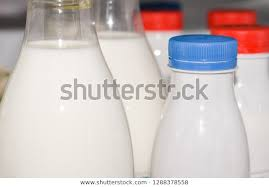milk: (4, 16, 131, 186), (164, 35, 246, 170)
